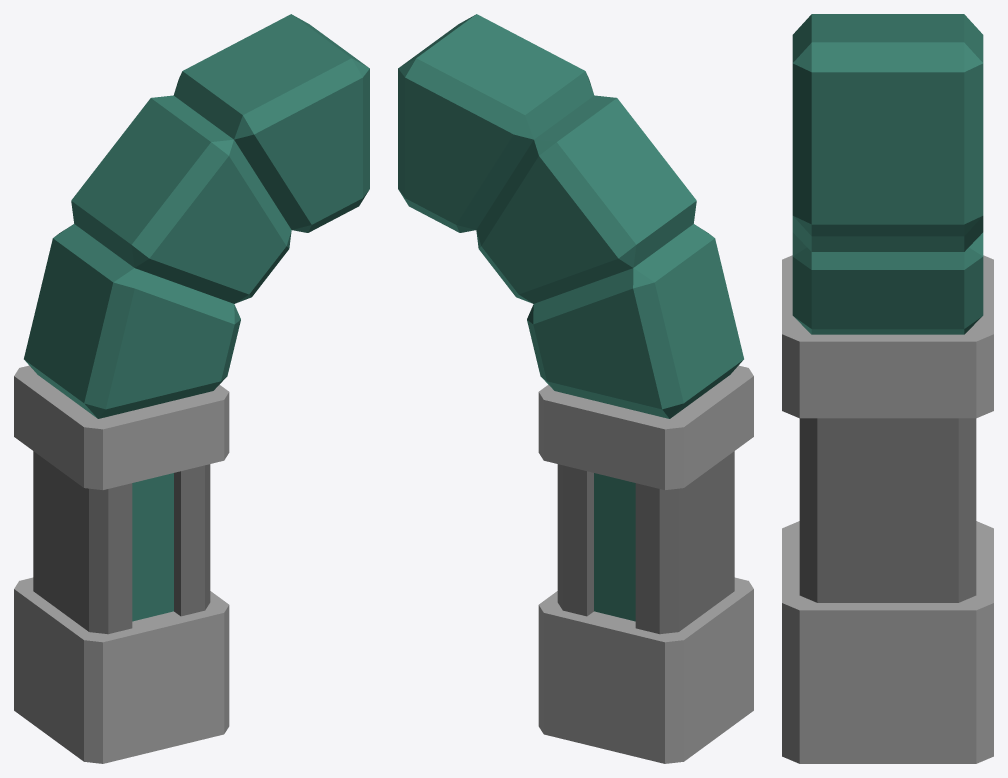
File: gateway_large.obj
3 views of the same model, side by side, from view 1: azimuth 30°, elevation 25°; view 2: azimuth 150°, elevation 25°; view 3: azimuth 270°, elevation 25° (orthographic). The views are drawn at different scales.
Visible parts, largest first — view 1: object4, object1, object3, object2; view 2: object4, object1, object3, object2; view 3: object4, object1, object3, object2.
Boxes of the visible parts, x1=… form: object4: x1=24, y1=14, x2=369, y2=418; object1: x1=14, y1=577, x2=229, y2=763; object3: x1=33, y1=451, x2=210, y2=634; object2: x1=14, y1=365, x2=229, y2=489; object4: x1=398, y1=14, x2=743, y2=418; object1: x1=538, y1=577, x2=753, y2=763; object3: x1=557, y1=451, x2=734, y2=634; object2: x1=538, y1=365, x2=753, y2=489; object4: x1=792, y1=14, x2=983, y2=334; object1: x1=782, y1=521, x2=993, y2=763; object3: x1=799, y1=418, x2=976, y2=602; object2: x1=782, y1=255, x2=993, y2=418.
Bounding box in the file's own units: 1 × 2.08 × 0.5.
